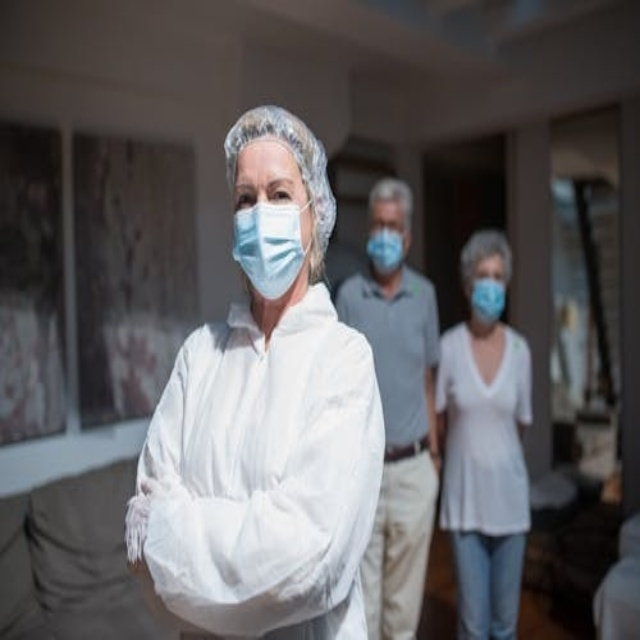Guantes: (124, 491, 151, 566)
Mascara: (232, 200, 311, 298), (367, 229, 404, 273), (470, 278, 507, 321)
Sin_gafas: (232, 171, 303, 211), (474, 261, 506, 286)
